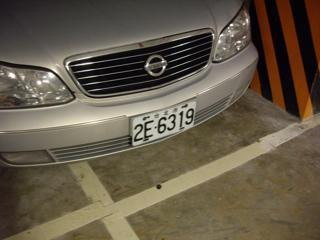plate: (128, 101, 194, 143)
